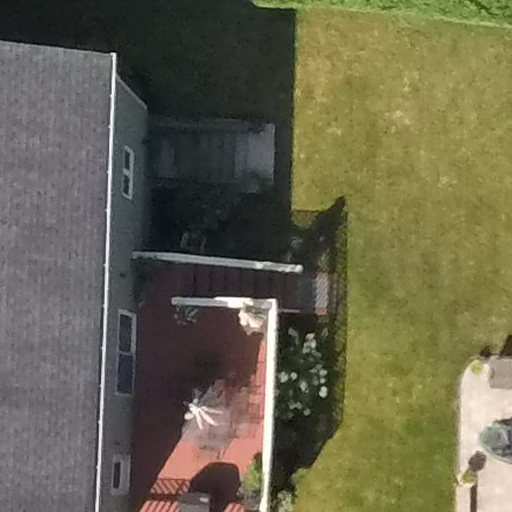container: (455, 461, 486, 490), (463, 355, 488, 379)
flower pot: (452, 464, 478, 492), (468, 356, 490, 378)
porch: (121, 231, 365, 512)
table: (168, 375, 258, 453)
